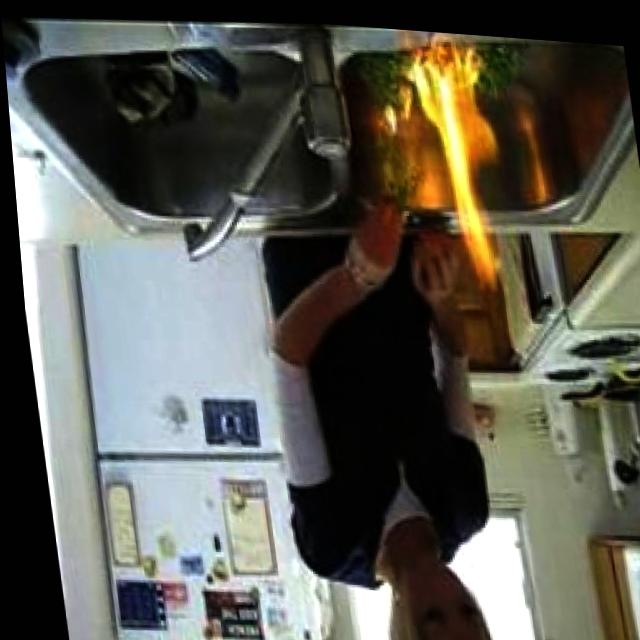helmet: (363, 34, 521, 292)
